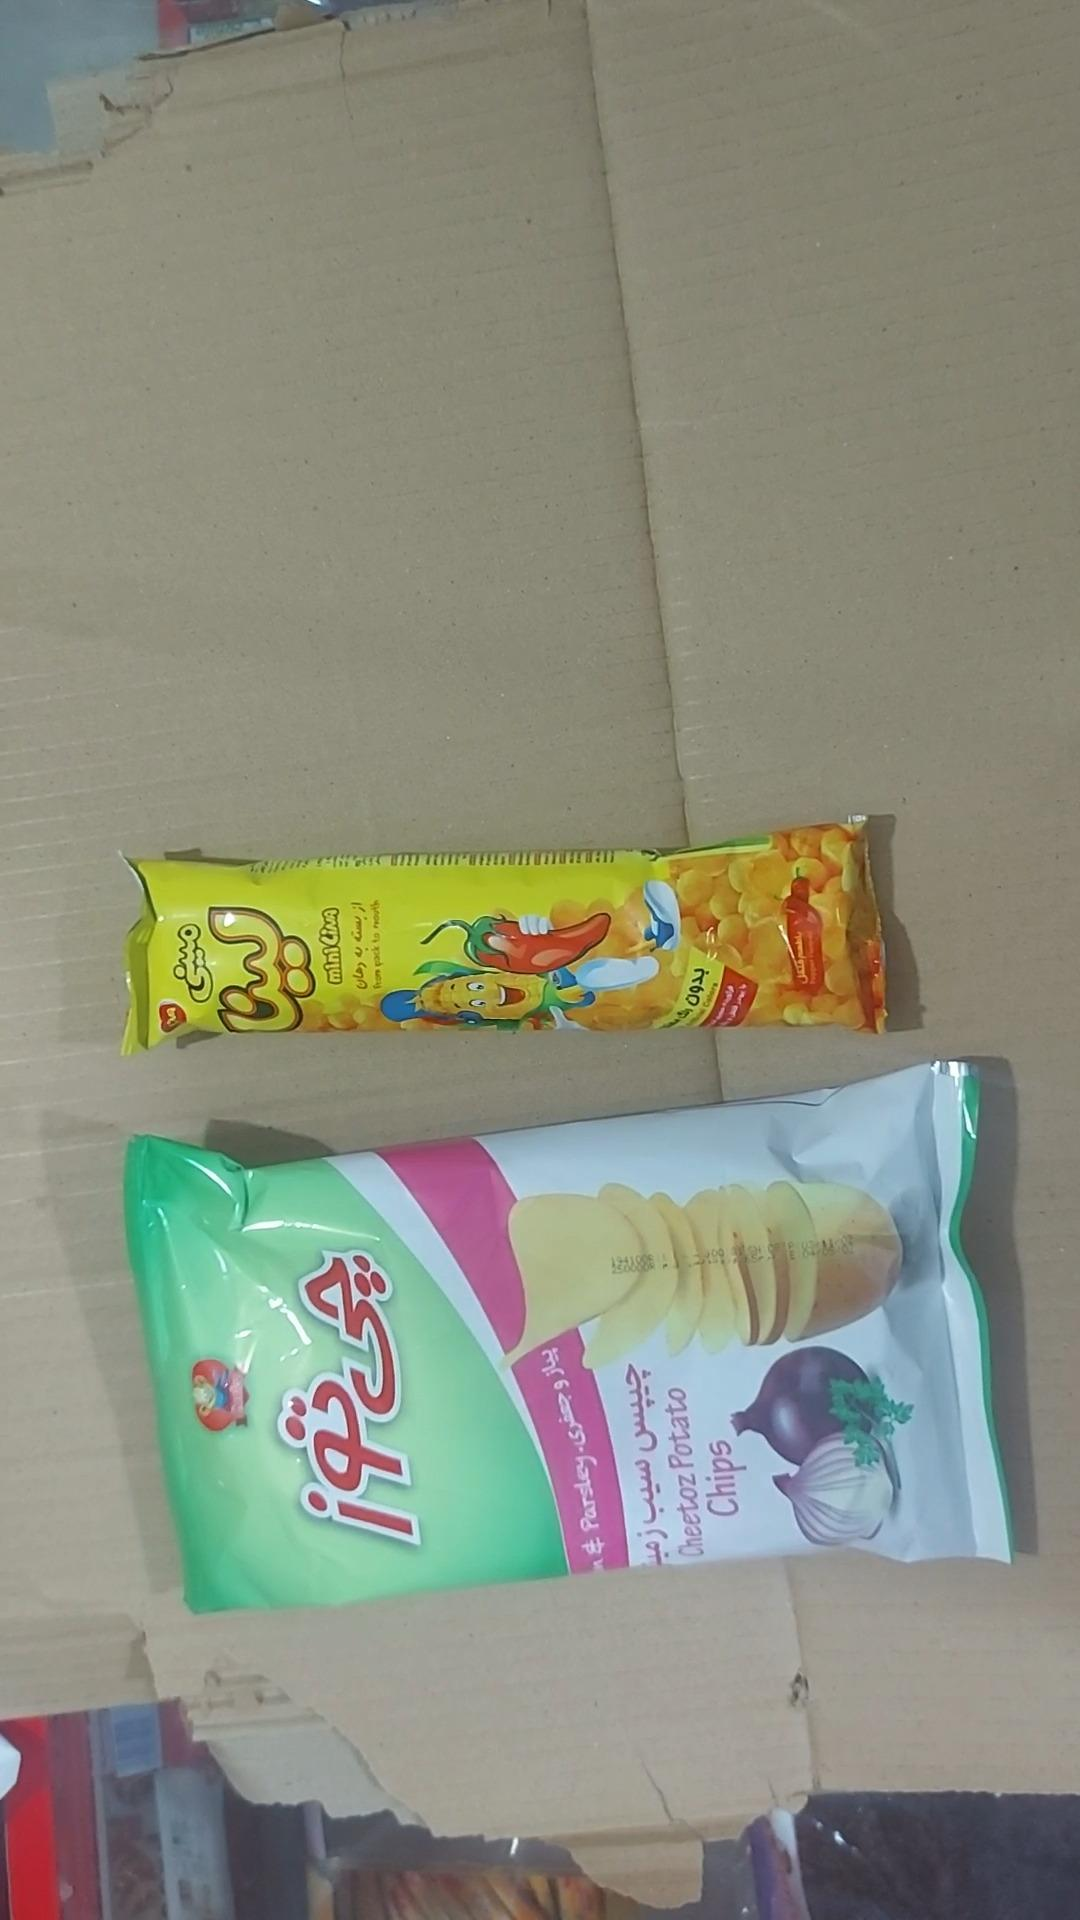Cheetoz onion and parsley chips: (125, 1062, 1013, 1611)
Mini Lina: (123, 820, 887, 1054)
